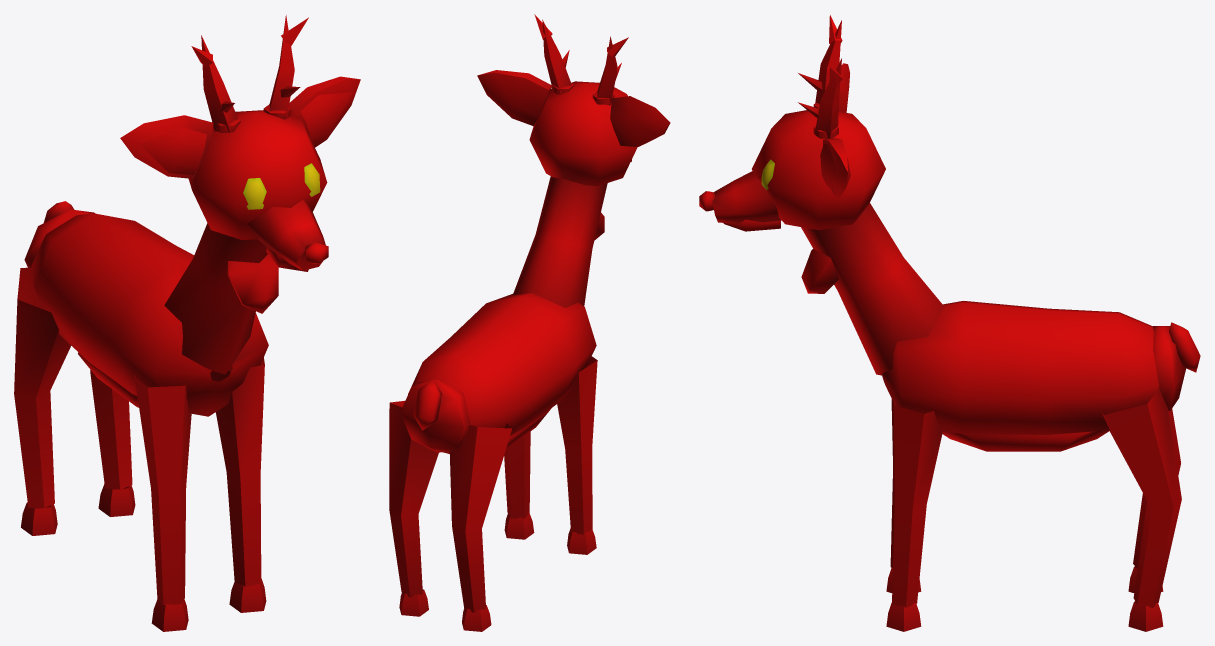
Rendered from DeerAnimal_LOD1.glb.
The picture shows the model from 3 angles, left to right: view 1: azimuth 30°, elevation 25°; view 2: azimuth 150°, elevation 25°; view 3: azimuth 270°, elevation 25°; orthographic projection. The views are drawn at different scales.
Visible parts, largest first — view 1: DeerAnimal_LOD1; view 2: DeerAnimal_LOD1; view 3: DeerAnimal_LOD1.
Boxes of the visible parts, <box> form: DeerAnimal_LOD1: <box>14,15,360,631</box>; DeerAnimal_LOD1: <box>389,14,670,631</box>; DeerAnimal_LOD1: <box>699,15,1200,631</box>.
Bounding box in the file's own units: 0.4205 × 1.03 × 0.8202.
